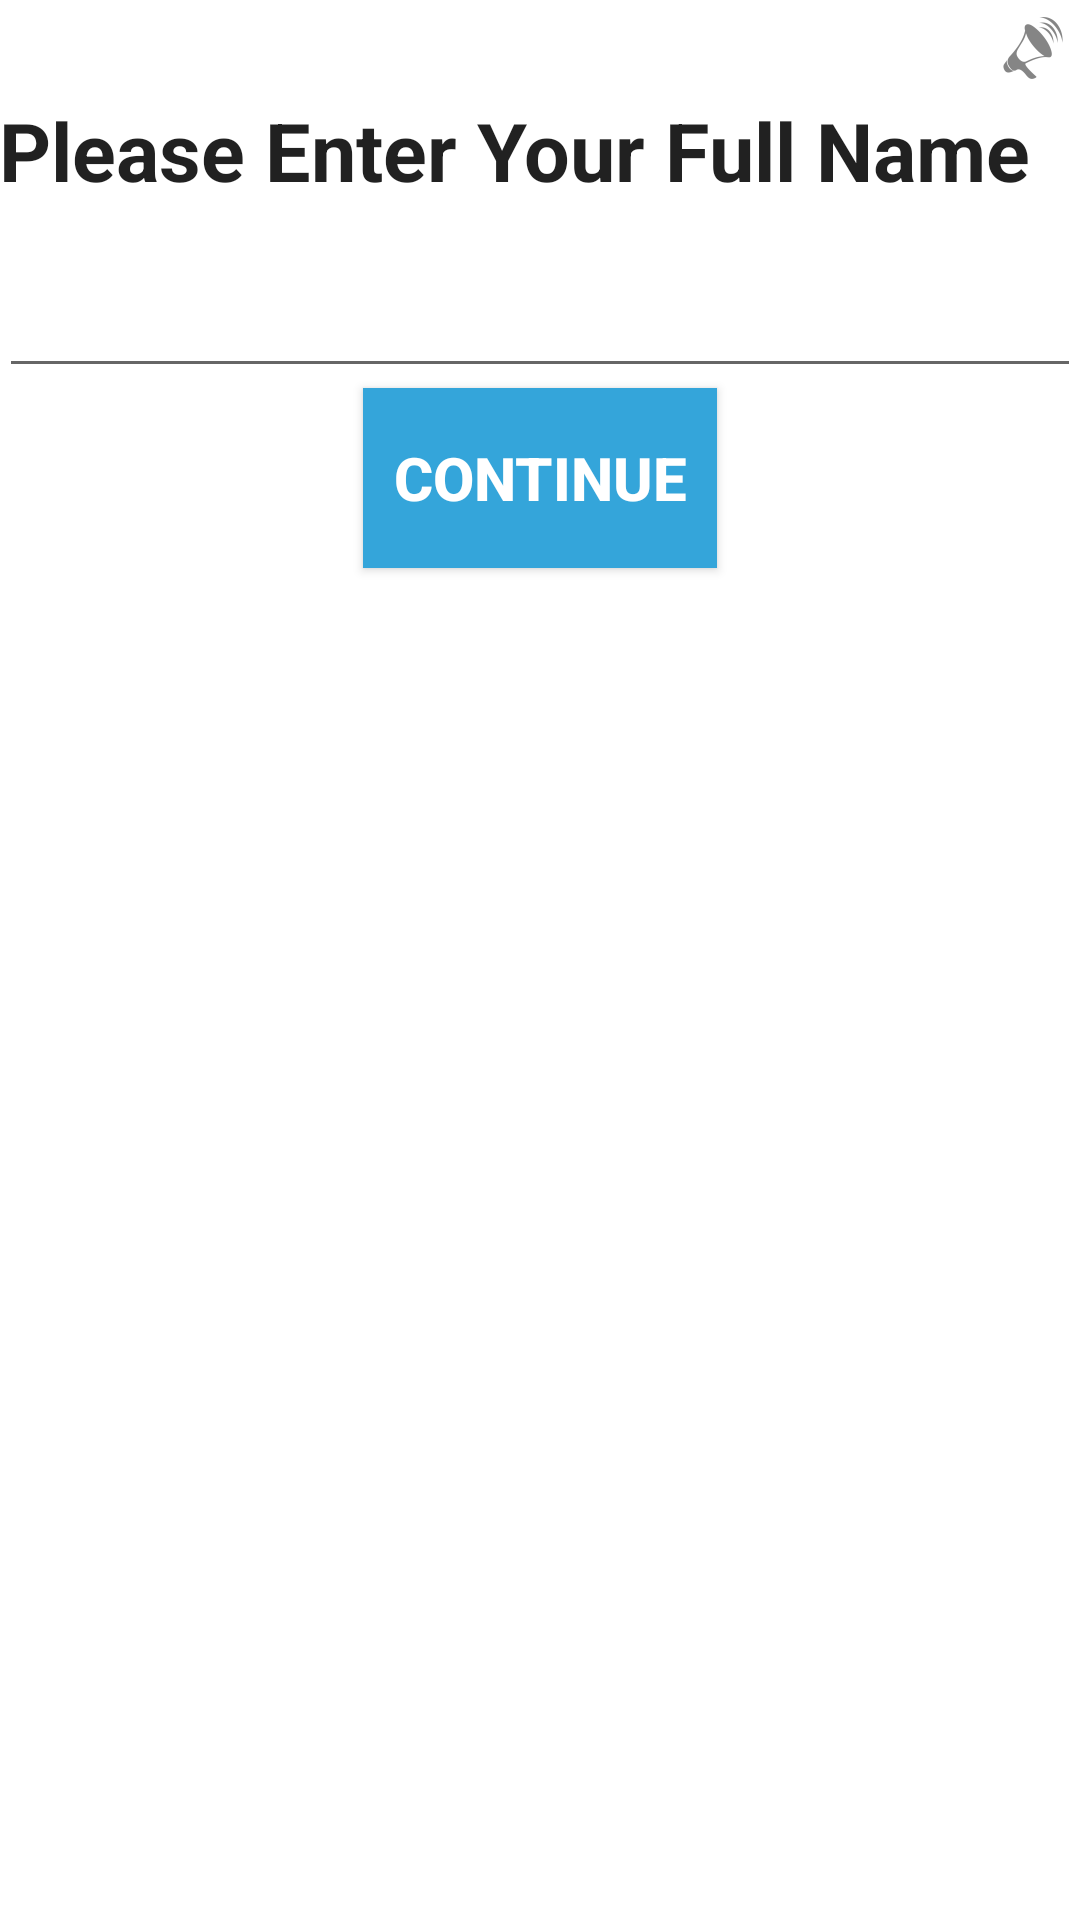

Screen size 1080 x 1920. Icon name, then its box in pixels as [x1,y1,x2,y2]:
speaker: [1003,17,1063,79]
